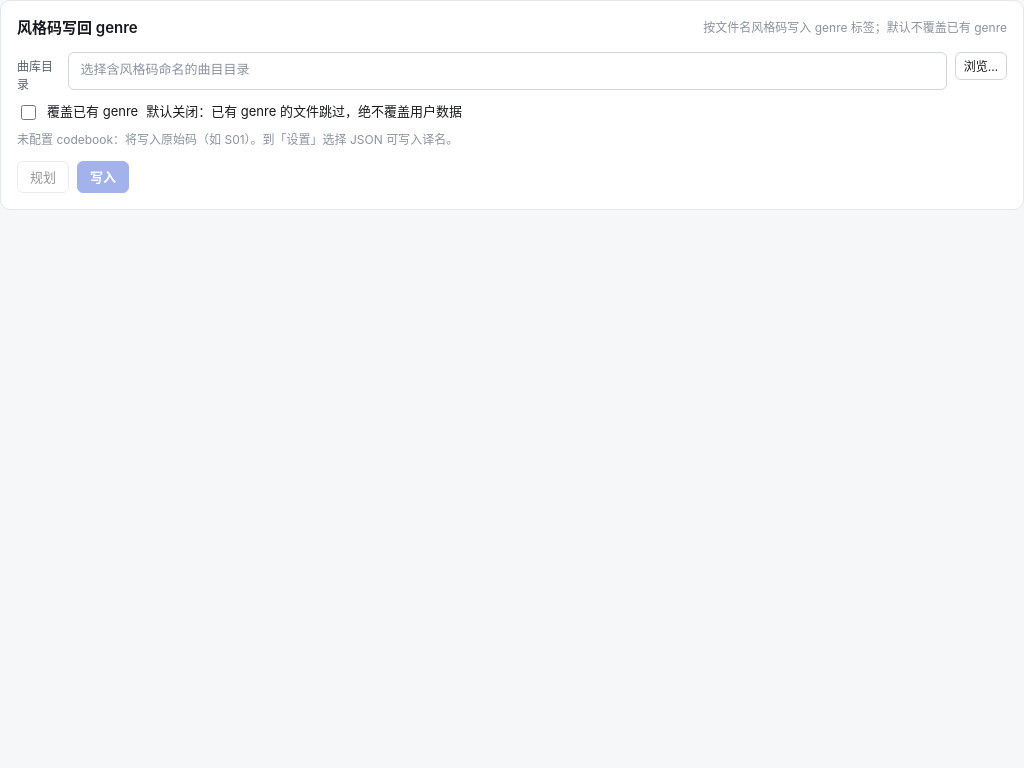
Test: GenrePanel › 写入经二次确认才落盘（不直接改文件）
Type "/lib" into the field labelled "曲库目录" at (507, 70), box [68,52,947,90]
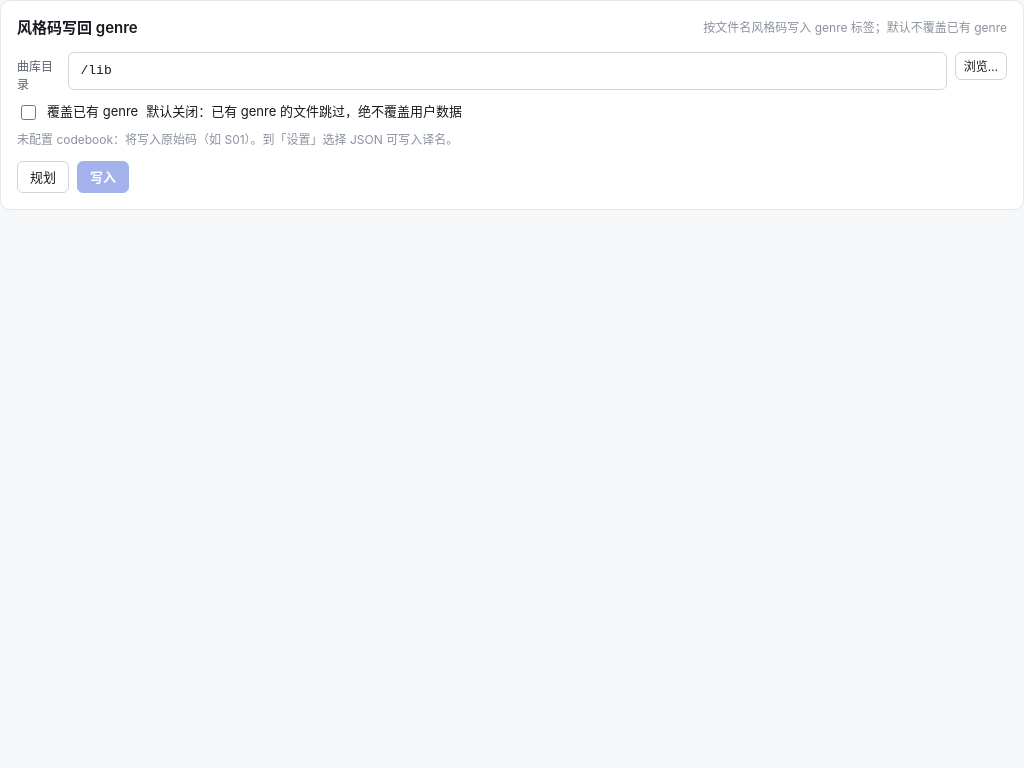
Click the button "规划" at (43, 176), box [17,160,69,192]
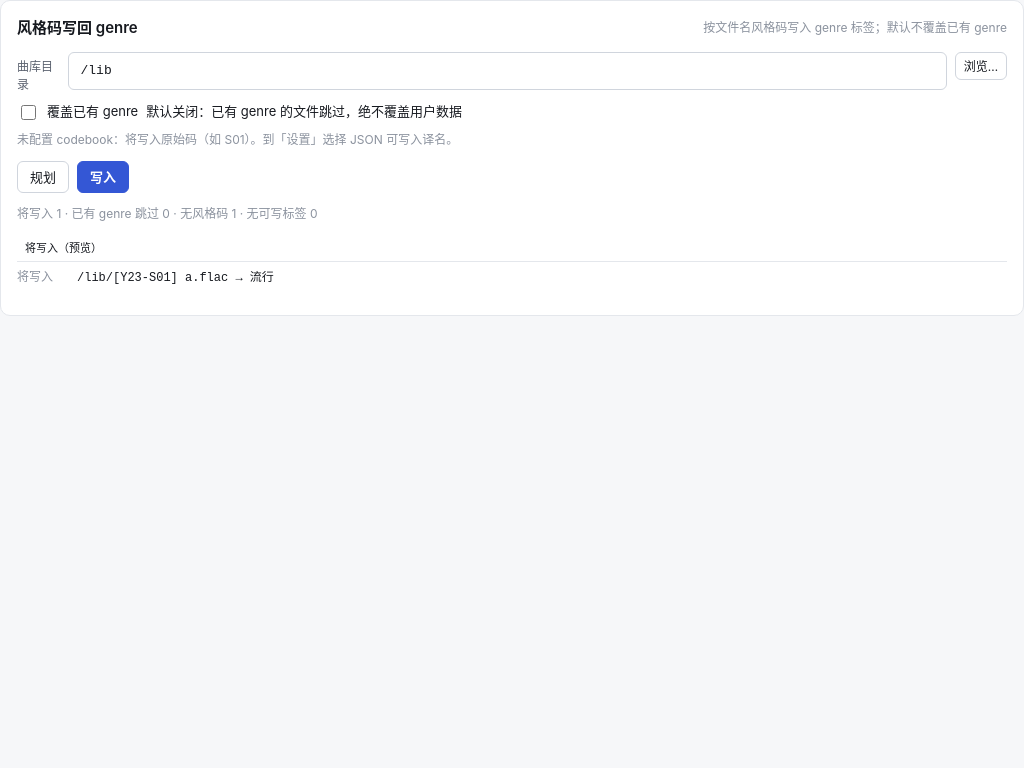
Check: the text "将写入 1 · 已有 genre 跳过 0 · 无风格码 1 · 无可写标签 0" is shown, box [17,206,318,220]
Click the button "写入" at (103, 176), box [77,160,129,192]
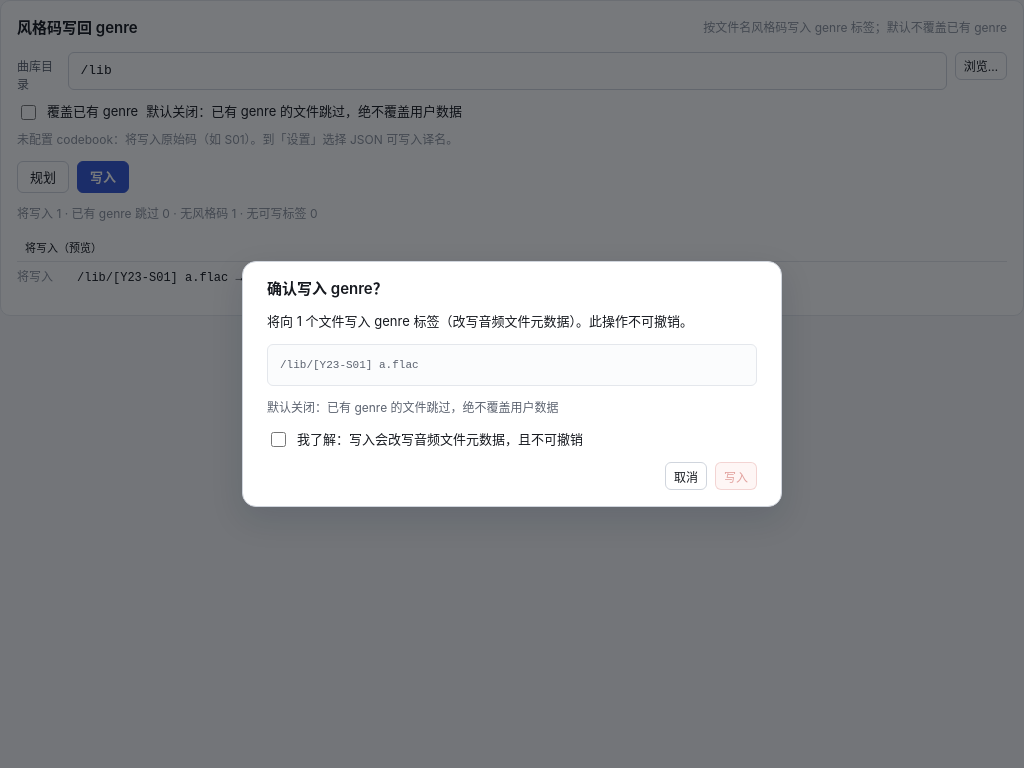
Check: the heading "确认写入 genre？" is shown, box [267,279,388,298]
